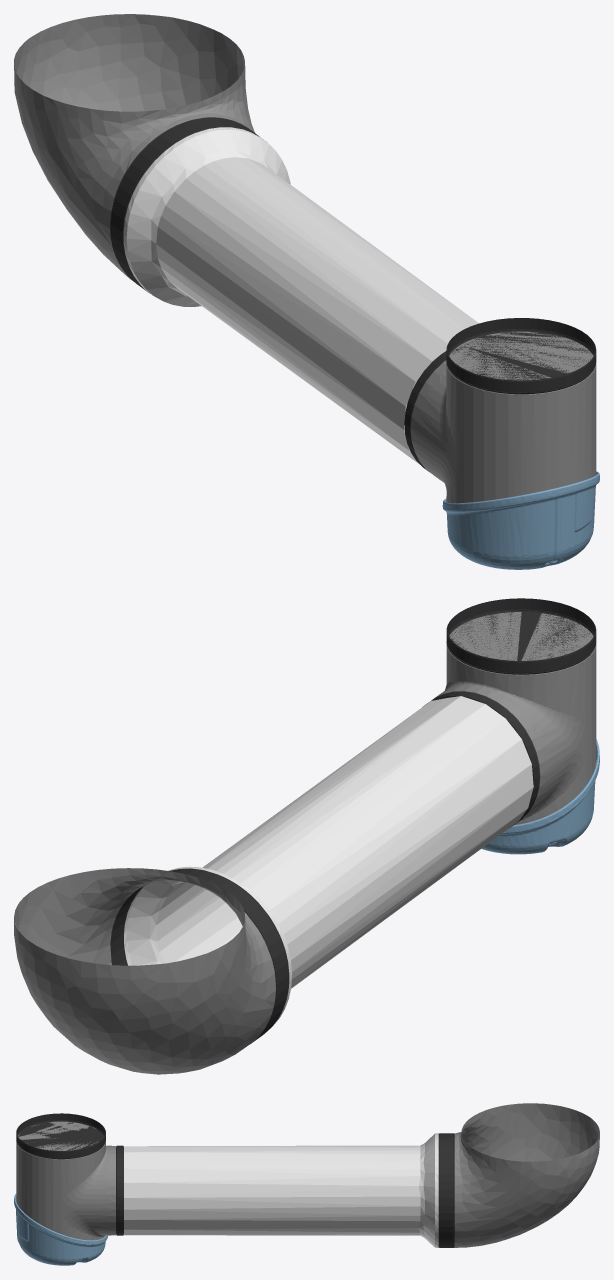
File: forearm.glb
3 views of the same model, one above another, from view 1: azimuth 30°, elevation 25°; view 2: azimuth 150°, elevation 25°; view 3: azimuth 270°, elevation 25° (orthographic). The views are drawn at different scales.
Parts seen in each view (by area): view 1: eSeries_UR5e_022, eSeries_UR5e_020, eSeries_UR5e_028, eSeries_UR5e_024, eSeries_UR5e_025, eSeries_UR5e_021, eSeries_UR5e_023; view 2: eSeries_UR5e_022, eSeries_UR5e_020, eSeries_UR5e_028, eSeries_UR5e_025, eSeries_UR5e_021, eSeries_UR5e_024, eSeries_UR5e_023; view 3: eSeries_UR5e_022, eSeries_UR5e_020, eSeries_UR5e_028, eSeries_UR5e_025, eSeries_UR5e_024, eSeries_UR5e_021, eSeries_UR5e_023.
Boxes of the visible parts, x1=… form: eSeries_UR5e_022: x1=123, y1=127, x2=478, y2=464; eSeries_UR5e_020: x1=14, y1=14, x2=254, y2=281; eSeries_UR5e_028: x1=410, y1=331, x2=596, y2=503; eSeries_UR5e_024: x1=442, y1=471, x2=599, y2=569; eSeries_UR5e_025: x1=446, y1=318, x2=596, y2=394; eSeries_UR5e_021: x1=110, y1=117, x2=259, y2=295; eSeries_UR5e_023: x1=404, y1=351, x2=446, y2=471; eSeries_UR5e_022: x1=124, y1=696, x2=533, y2=1028; eSeries_UR5e_020: x1=14, y1=868, x2=275, y2=1074; eSeries_UR5e_028: x1=434, y1=612, x2=596, y2=824; eSeries_UR5e_025: x1=446, y1=598, x2=596, y2=674; eSeries_UR5e_021: x1=110, y1=868, x2=289, y2=1043; eSeries_UR5e_024: x1=481, y1=739, x2=599, y2=854; eSeries_UR5e_023: x1=423, y1=691, x2=539, y2=828; eSeries_UR5e_022: x1=124, y1=1133, x2=438, y2=1247; eSeries_UR5e_020: x1=454, y1=1103, x2=599, y2=1247; eSeries_UR5e_028: x1=16, y1=1121, x2=115, y2=1240; eSeries_UR5e_025: x1=16, y1=1113, x2=105, y2=1159; eSeries_UR5e_024: x1=14, y1=1194, x2=107, y2=1265; eSeries_UR5e_021: x1=438, y1=1133, x2=454, y2=1247; eSeries_UR5e_023: x1=116, y1=1145, x2=123, y2=1235.
Bounding box in the file's own units: 0.1158 × 0.1099 × 0.4894.
